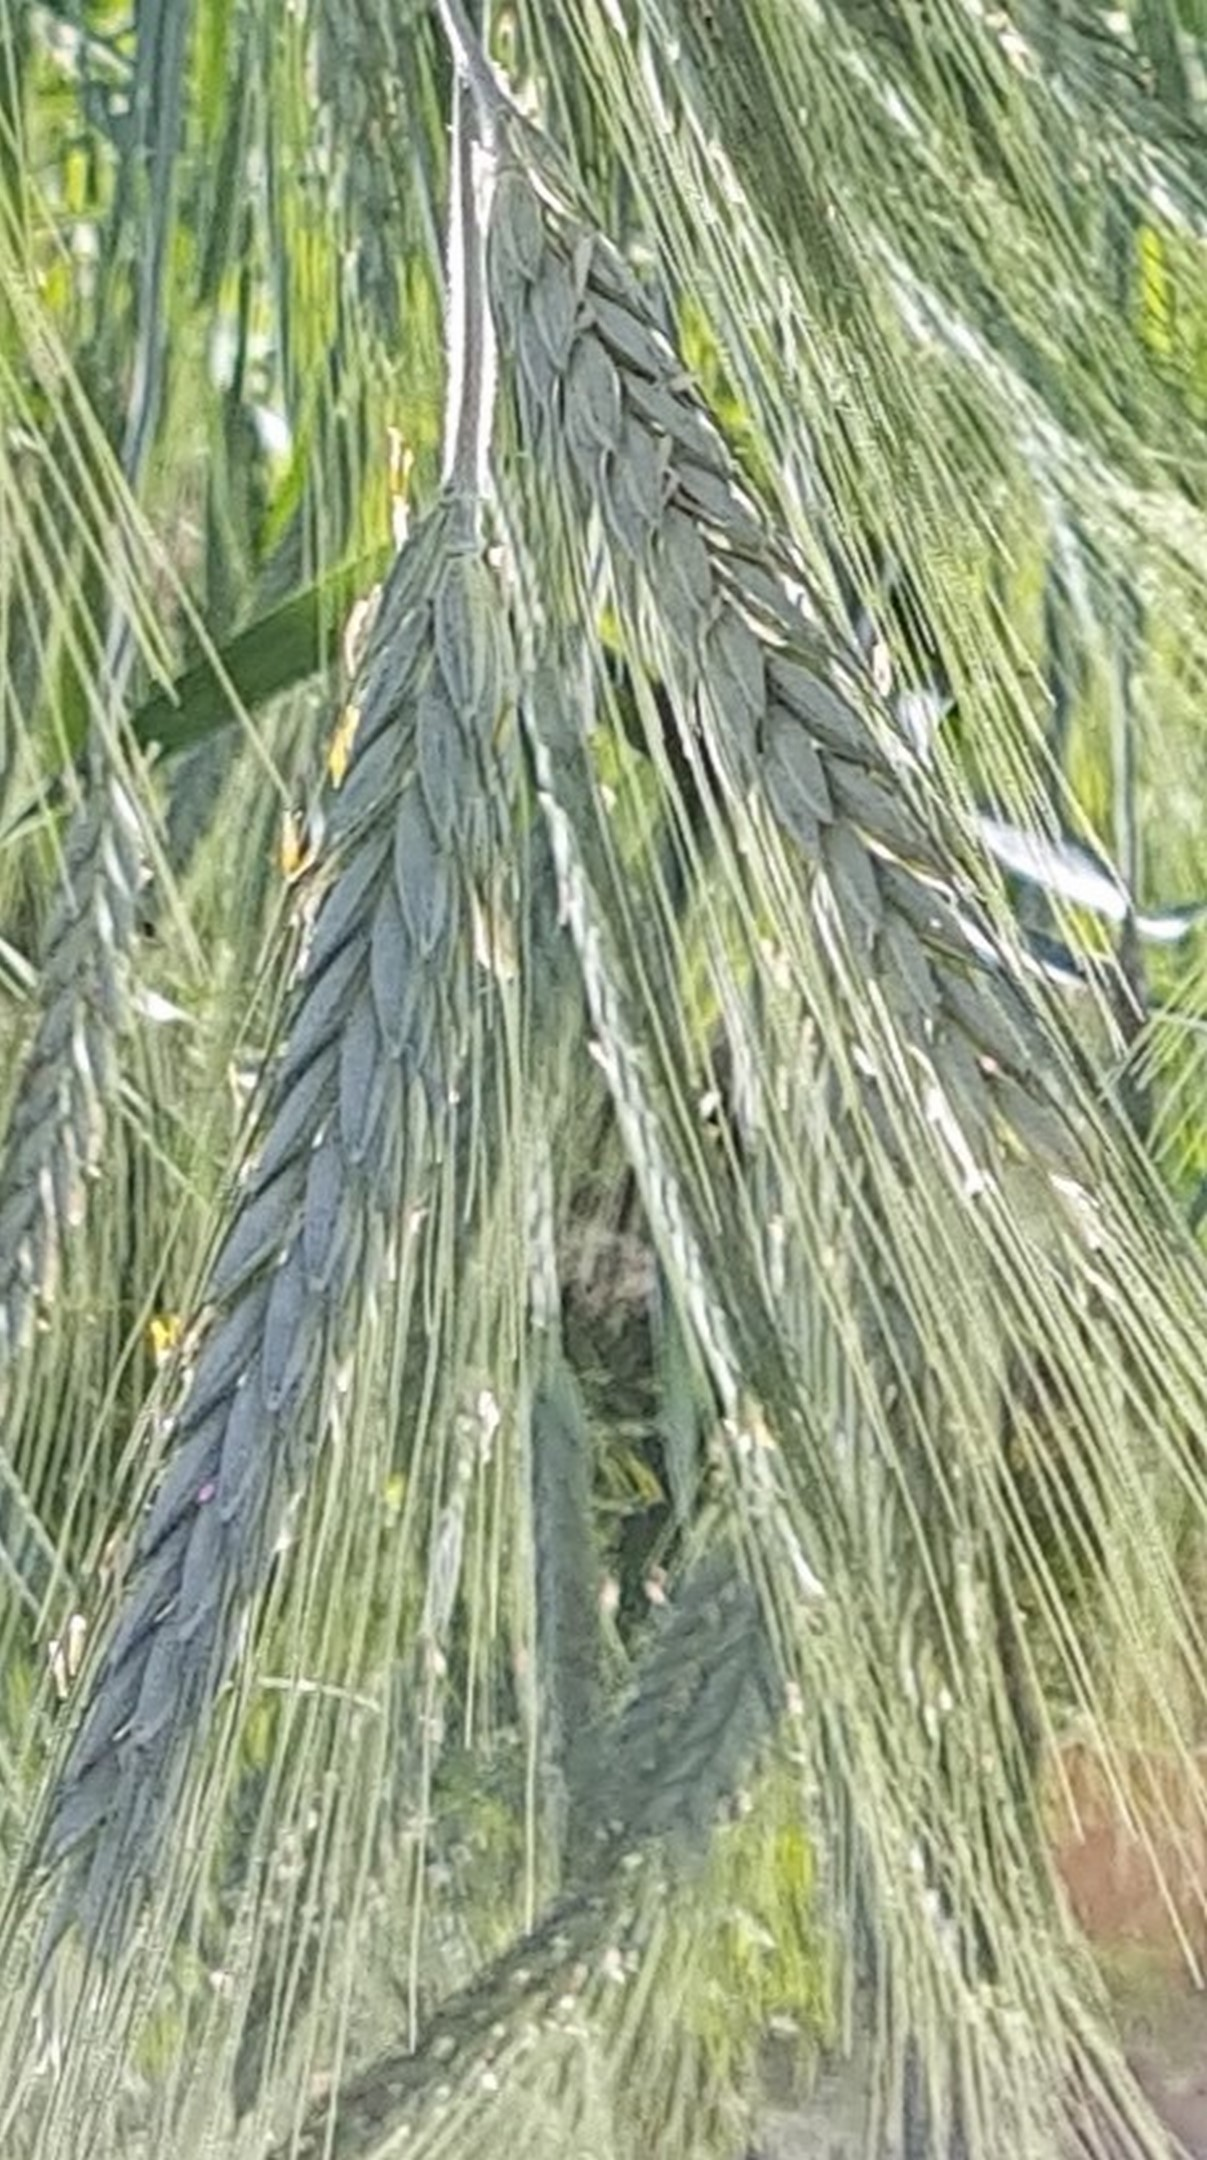Healthy Wheat: (479, 108, 1191, 1188), (42, 519, 534, 1883)
